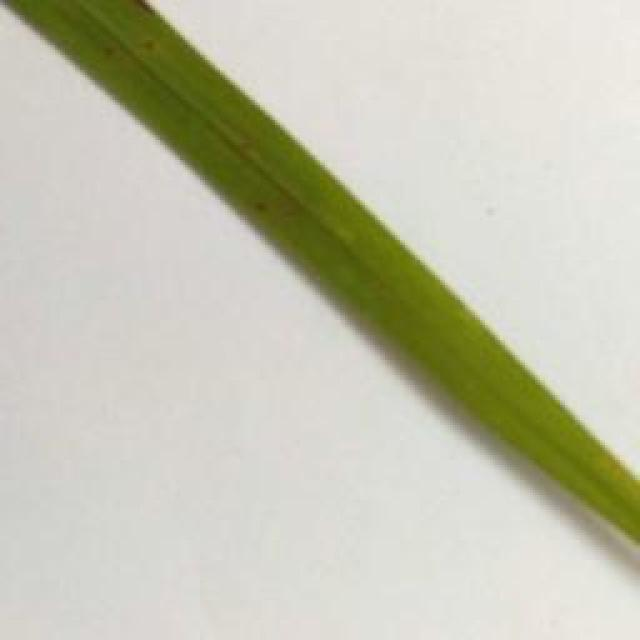Brown_Spot: (92, 35, 124, 69), (247, 196, 273, 222), (139, 34, 158, 58)
